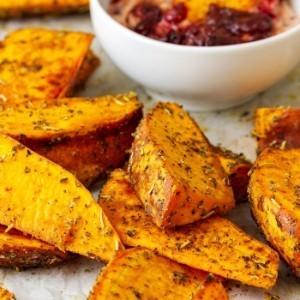sweet potato_brain food: (16, 99, 292, 279)
